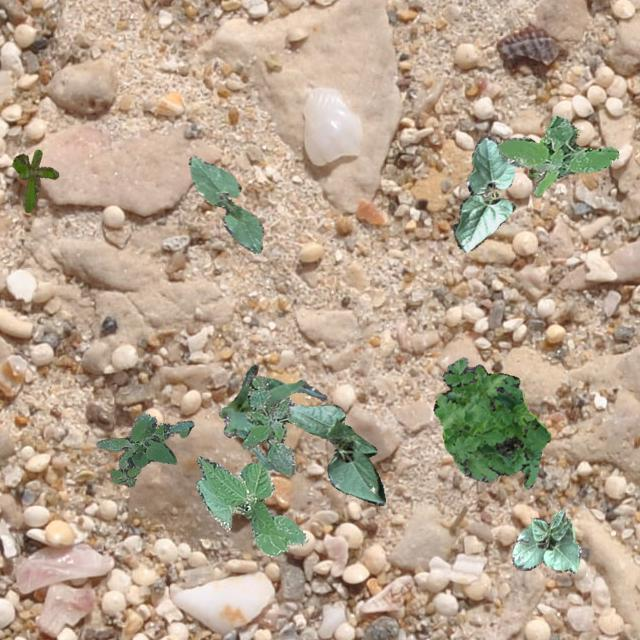crop: (217, 364, 326, 472), (196, 456, 306, 556), (288, 402, 384, 504), (452, 134, 514, 252), (188, 154, 262, 252), (510, 508, 580, 572)
weed: (432, 357, 550, 488), (496, 114, 618, 194), (96, 412, 192, 487), (240, 376, 296, 476), (12, 148, 58, 212), (526, 124, 578, 178)
